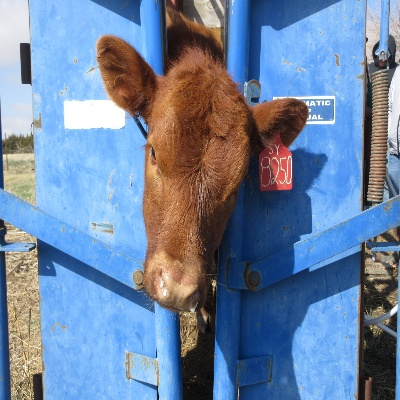fidget_spinner: (154, 267, 201, 310)
